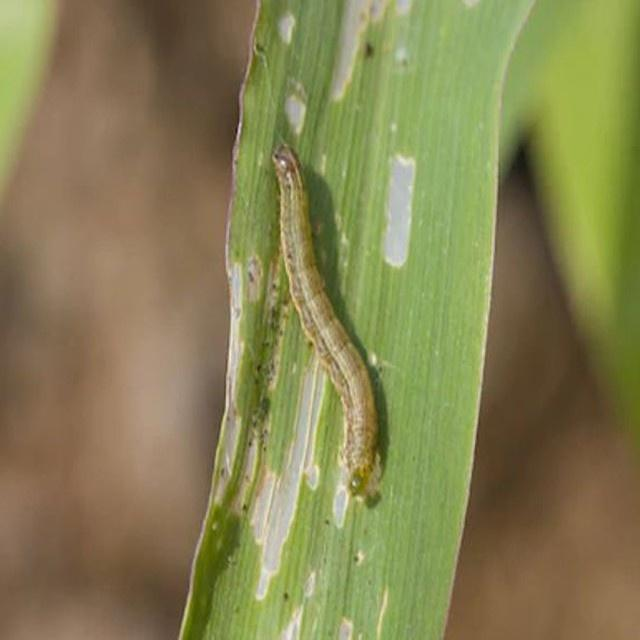gusano_cogollero: (266, 134, 386, 511)
